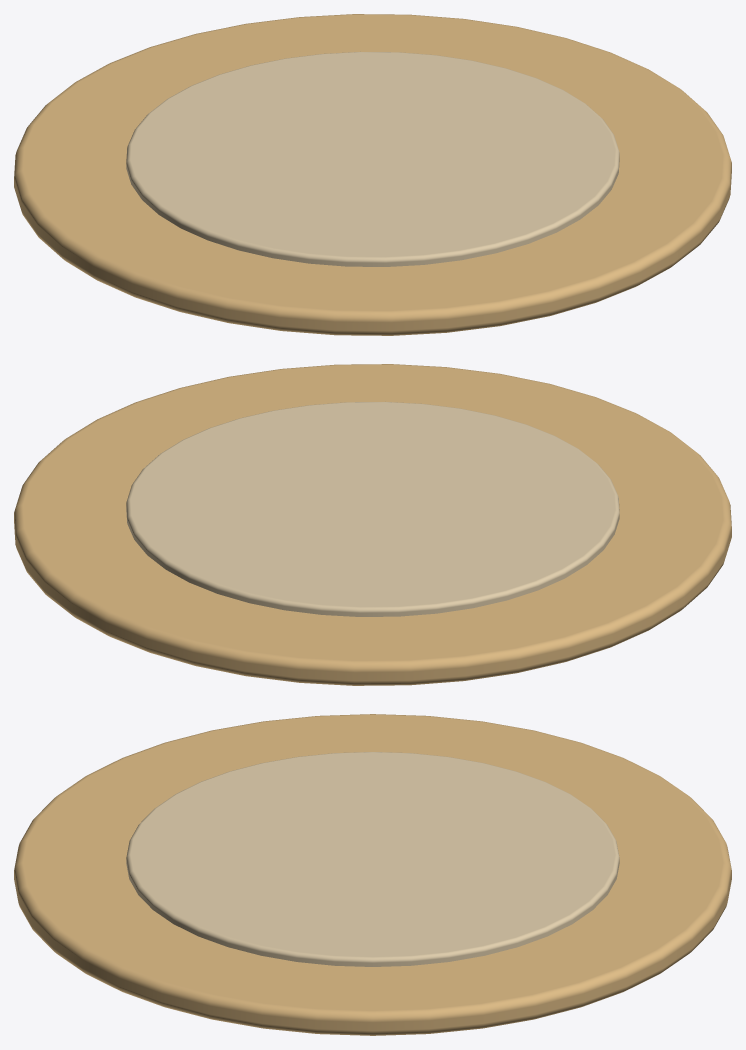
The model's file is pad.glb.
3 renders of one model, top to bottom at view 1: azimuth 30°, elevation 25°; view 2: azimuth 150°, elevation 25°; view 3: azimuth 270°, elevation 25°, orthographic.
Parts seen in each view (by area): view 1: pad; view 2: pad; view 3: pad.
Boxes of the visible parts, x1,y1,x2,y2 form: pad: [14, 14, 731, 335]; pad: [14, 364, 731, 685]; pad: [14, 714, 731, 1035].
Bounding box in the file's own units: 3.2 × 0.16 × 3.2.
